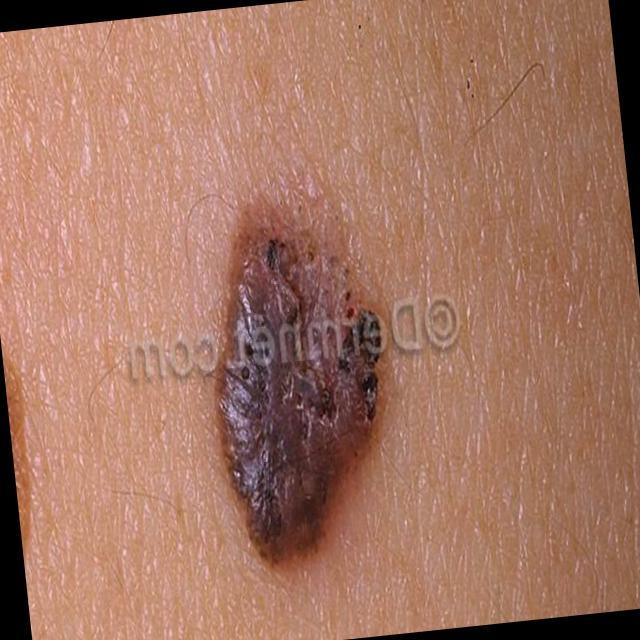Eczema: (218, 217, 388, 574)
